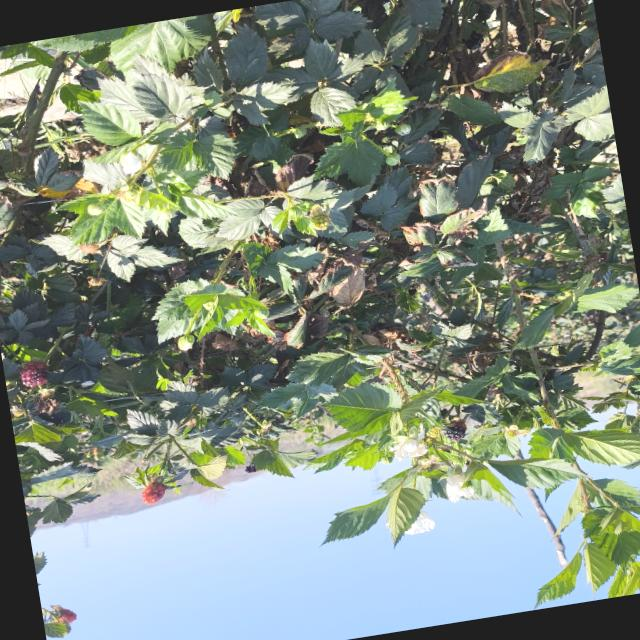boton: (178, 334, 195, 352), (87, 203, 106, 216), (124, 188, 140, 201), (386, 153, 400, 166), (395, 124, 411, 135), (376, 121, 389, 131)
flor: (389, 425, 428, 460), (445, 473, 475, 503), (405, 509, 435, 535)
maduro: (443, 420, 467, 441)
marron: (20, 361, 48, 387)
naranja: (142, 482, 167, 505)
verde: (312, 215, 331, 230)
